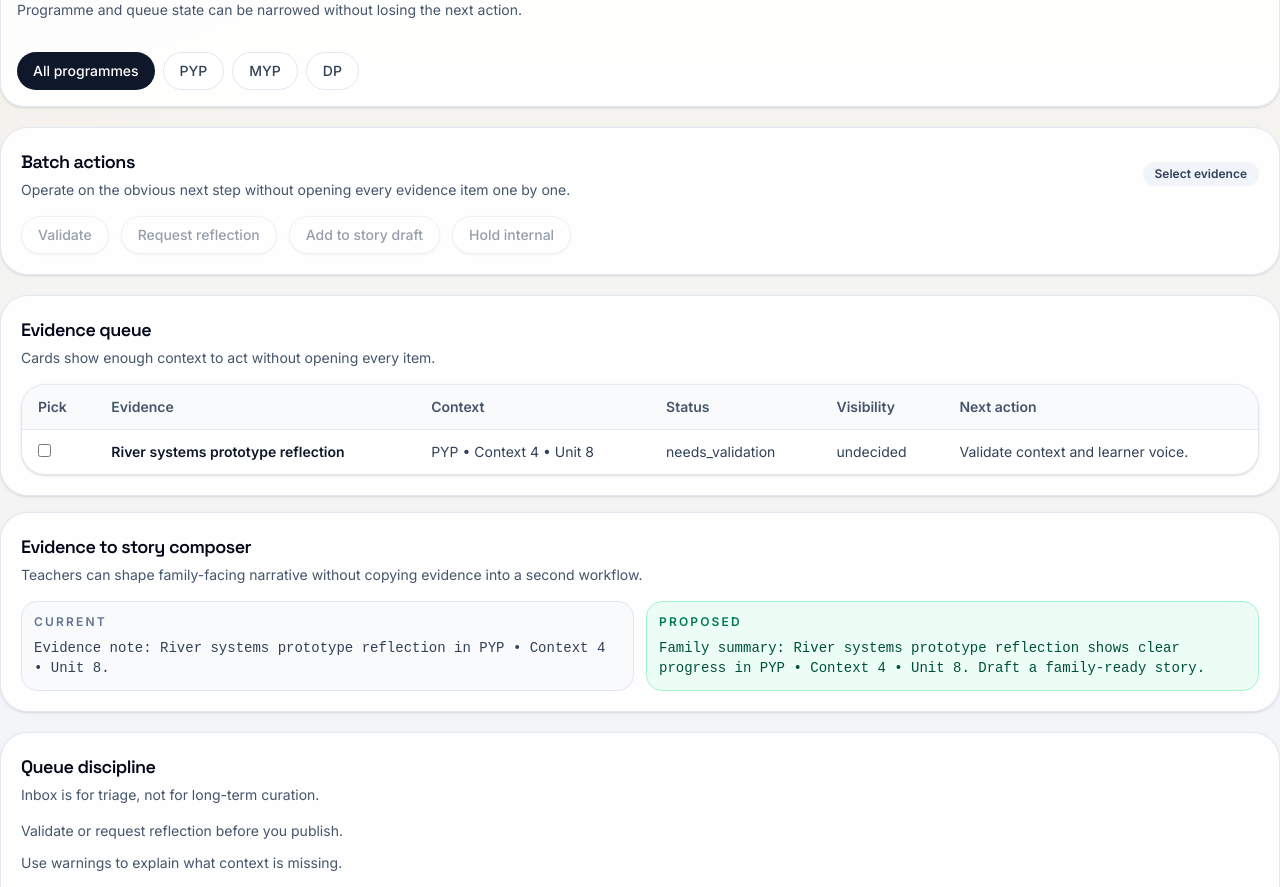
EvidenceInbox › supports selecting evidence and applying a batch validation action
(page scrolled)
Click the checkbox named "Select River systems prototype reflection" at [44, 450], box [38,444,51,457]
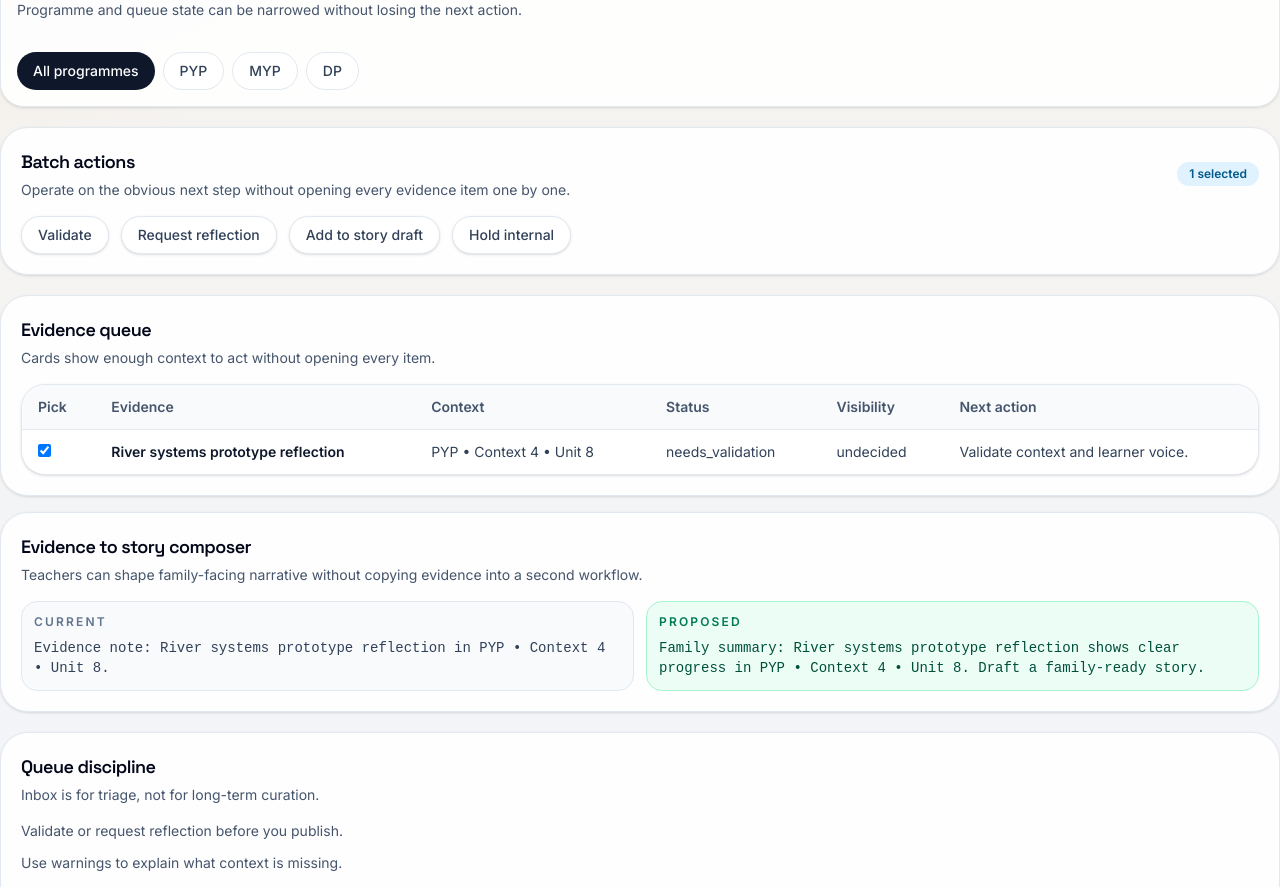
Click the button "Validate" at [65, 235], box [21,216,109,254]
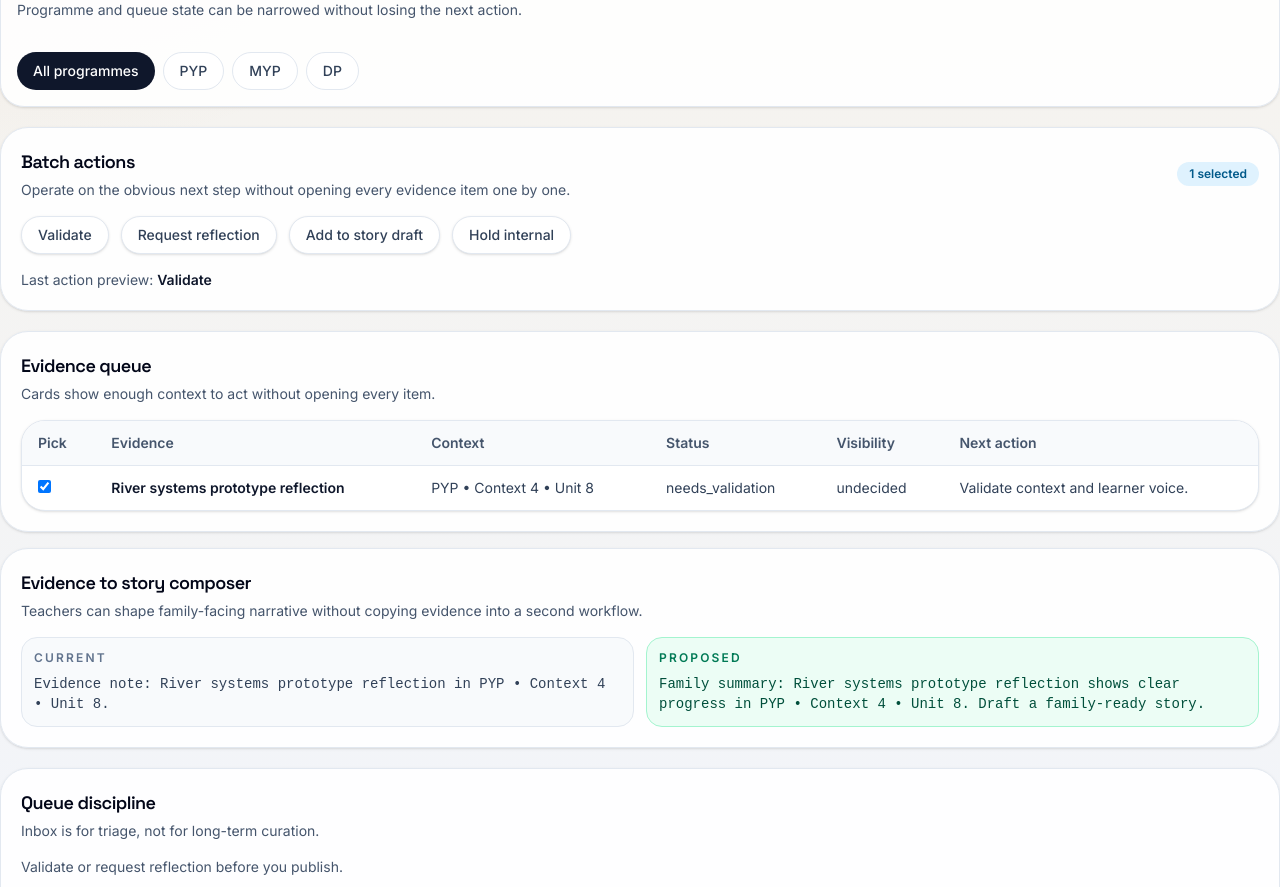
Result: the text "Last action preview:" is shown at [21,271,153,288]
